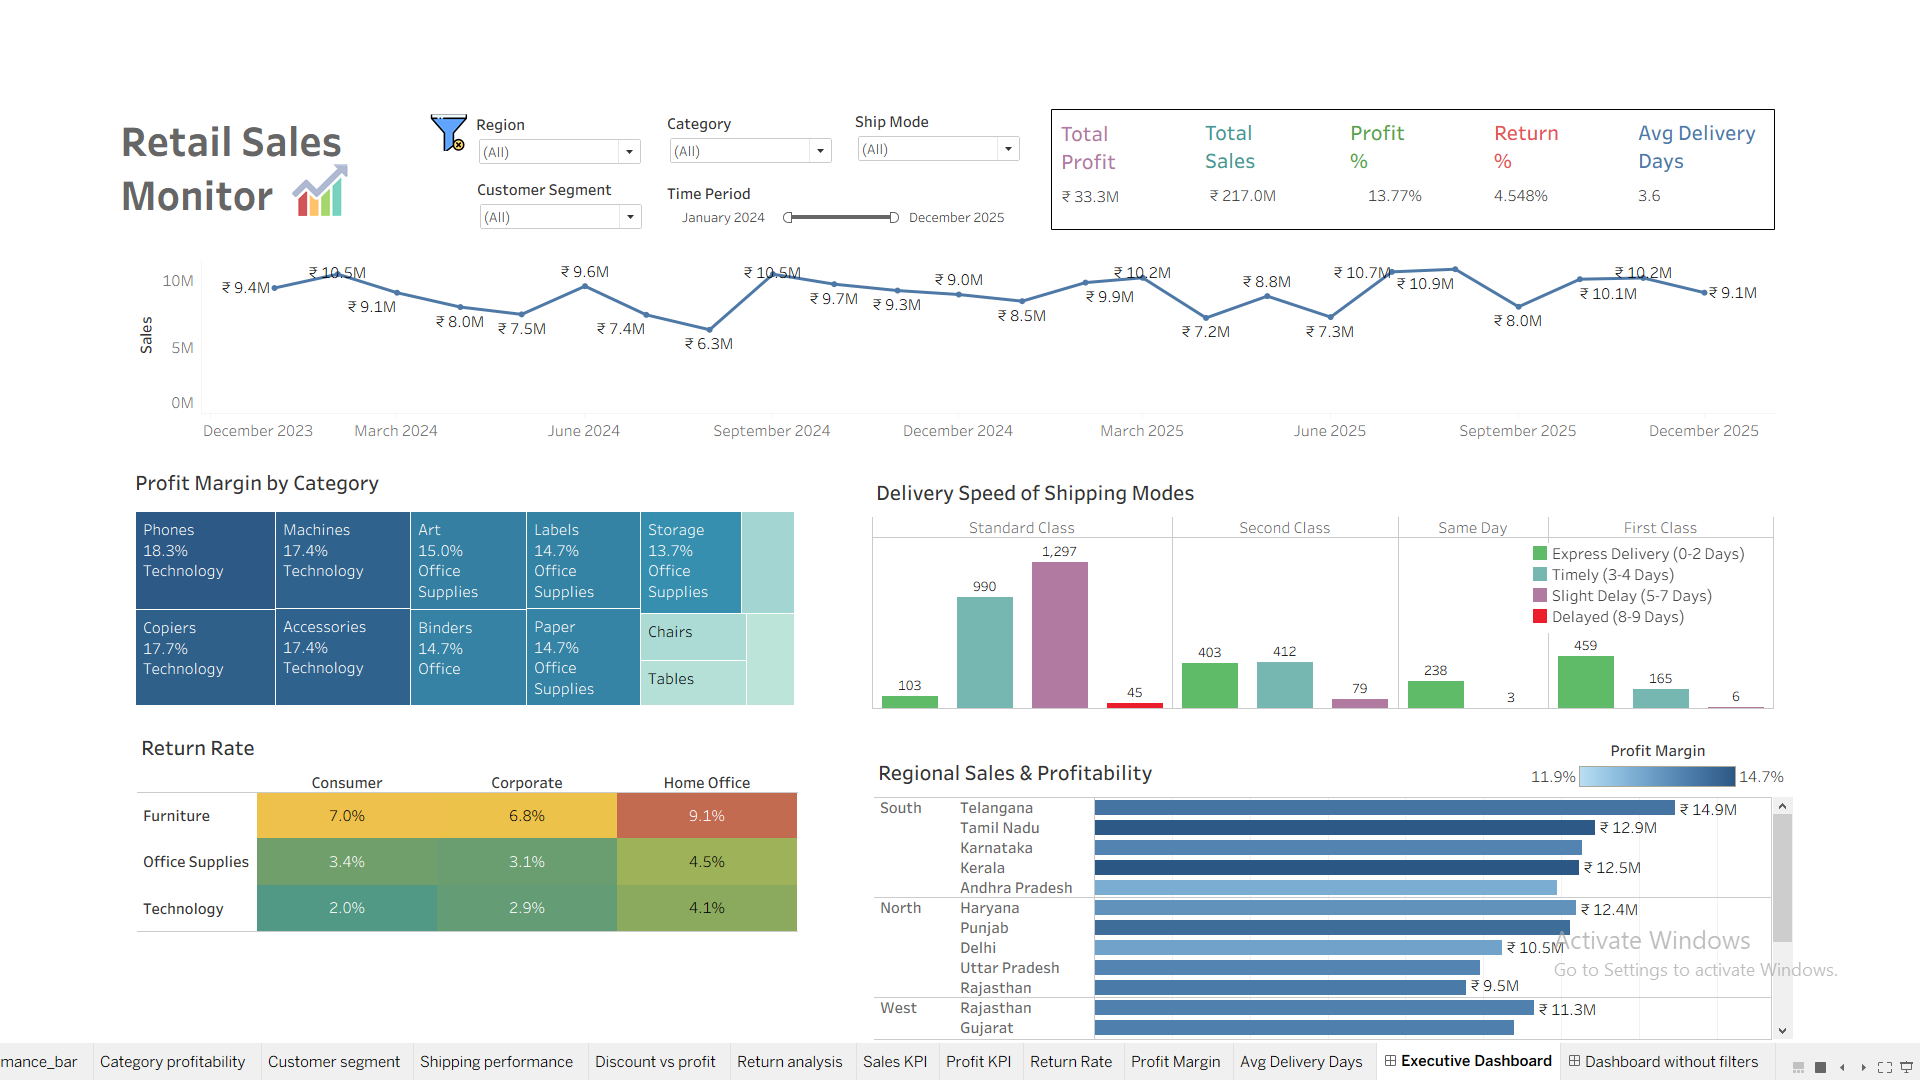

This screenshot's page, from the dashboard's own definition file:
{"tool":"tableau","page":{"name":"Executive Dashboard","canvas":[1000,1000],"units":"permille","ordinal":1},"visuals":[{"type":"dashboard-object","box":[191.3,9.5,22.6,78.1]},{"type":"text","box":[9.8,13,153,151.5]},{"type":"worksheet","title":"Profit KPI","mark":"Automatic","box":[553.3,22.5,84.1,138.5]},{"type":"worksheet","title":"Sales KPI","mark":"Automatic","box":[637.4,22.5,84.1,138.5]},{"type":"worksheet","title":"Profit Margin","mark":"Automatic","box":[721.5,22.5,84.1,138.5]},{"type":"worksheet","title":"Return Rate","mark":"Automatic","box":[805.6,22.5,84.1,138.5]},{"type":"worksheet","title":"Avg Delivery Days","mark":"Automatic","box":[889.7,22.5,83.5,138.5]},{"type":"filter","title":"Shipping performance","param":"[federated.15pxepb1rhsevl1brppo21aqfgl3].[none:ship_mode:nk]","box":[438.8,23.7,97.5,73.4]},{"type":"filter","title":"Category profitability","param":"[federated.15pxepb1rhsevl1brppo21aqfgl3].[none:category:nk]","box":[329.7,26,97.5,86.4]},{"type":"filter","title":"Regional performance_bar","param":"[federated.15pxepb1rhsevl1brppo21aqfgl3].[none:region:nk]","box":[218.8,27.2,97.5,87.6]},{"type":"image","param":"Image/download (1).png","box":[109.1,85.2,36.6,66.3]},{"type":"filter","title":"Return analysis","param":"[federated.15pxepb1rhsevl1brppo21aqfgl3].[none:customer_segment:nk]","box":[219.4,101.8,97.5,82.8]},{"type":"filter","title":"Sales trend","param":"[federated.15pxepb1rhsevl1brppo21aqfgl3].[tmn:order_date:qk]","box":[329.7,106.5,202.3,69.8]},{"type":"worksheet","title":"Sales trend","mark":"Automatic","rows":["sales"],"cols":["order_date"],"box":[16.4,196.5,958.6,213]},{"type":"worksheet","title":"Category profitability","mark":"Automatic","box":[18.3,433.1,388.2,286.4]},{"type":"worksheet","title":"Shipping performance","mark":"Automatic","rows":["order_id"],"cols":["ship_mode"],"box":[449.1,445,524.7,273.4]},{"type":"legend","title":"Shipping performance","param":"[federated.15pxepb1rhsevl1brppo21aqfgl3].[Delivery Days (group)]","box":[831.2,525.4,137.1,105.3]},{"type":"worksheet","title":"Return analysis","mark":"Square","rows":["category"],"cols":["customer_segment"],"box":[21.3,742,384.5,235.5]},{"type":"legend","title":"Regional performance_bar","param":"[federated.15pxepb1rhsevl1brppo21aqfgl3].[med:Calculation_0332894582788096:qk]","box":[829.4,755,152.3,59.2]}]}

Visuals, with their boxes on the dashboard's canvas, which has no fixed pixel size, in thousandths of its width and height (x1, y1, x2, y2). These are canvas units, not pixel positions in the 1920x1080 screenshot, which may show the page scaled, cropped or inside an application window:
dashboard-object: [left=191, top=10, right=214, bottom=88]
text: [left=10, top=13, right=163, bottom=164]
"Profit KPI" worksheet: [left=553, top=22, right=637, bottom=161]
"Sales KPI" worksheet: [left=637, top=22, right=722, bottom=161]
"Profit Margin" worksheet: [left=722, top=22, right=806, bottom=161]
"Return Rate" worksheet: [left=806, top=22, right=890, bottom=161]
"Avg Delivery Days" worksheet: [left=890, top=22, right=973, bottom=161]
"Shipping performance" filter: [left=439, top=24, right=536, bottom=97]
"Category profitability" filter: [left=330, top=26, right=427, bottom=112]
"Regional performance_bar" filter: [left=219, top=27, right=316, bottom=115]
image: [left=109, top=85, right=146, bottom=152]
"Return analysis" filter: [left=219, top=102, right=317, bottom=185]
"Sales trend" filter: [left=330, top=106, right=532, bottom=176]
"Sales trend" worksheet: [left=16, top=196, right=975, bottom=410]
"Category profitability" worksheet: [left=18, top=433, right=406, bottom=720]
"Shipping performance" worksheet: [left=449, top=445, right=974, bottom=718]
"Shipping performance" legend: [left=831, top=525, right=968, bottom=631]
"Return analysis" worksheet (Square marks): [left=21, top=742, right=406, bottom=978]
"Regional performance_bar" legend: [left=829, top=755, right=982, bottom=814]
